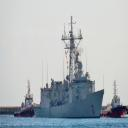Fragata: (34, 14, 106, 121)
